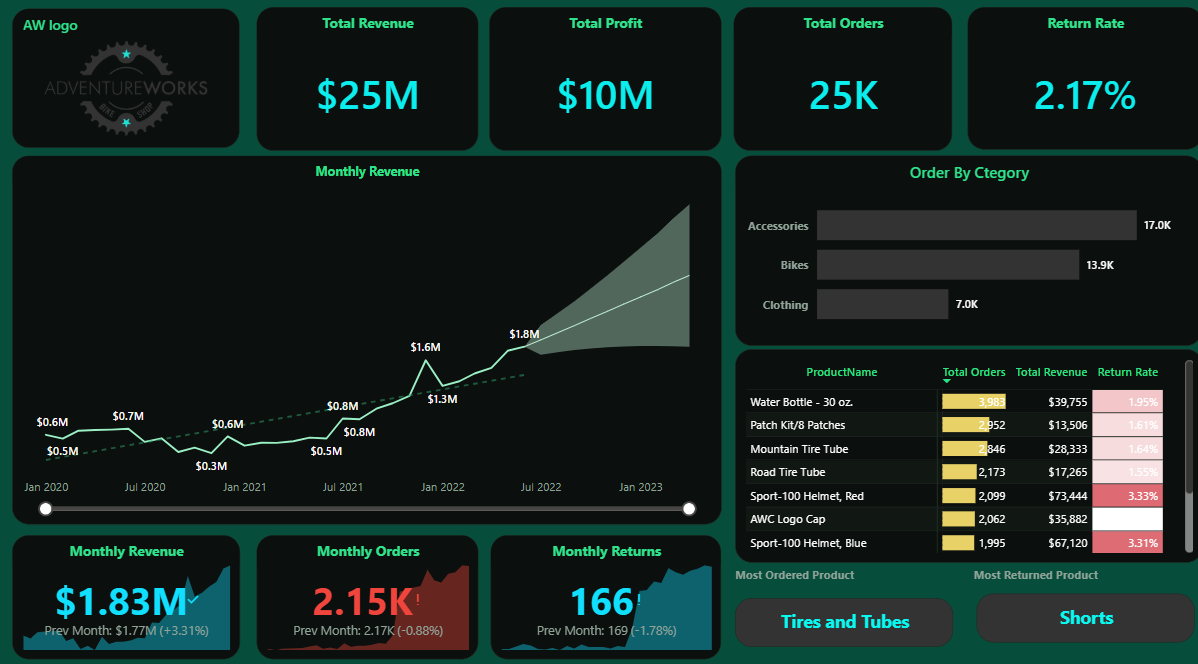

The page's visual inventory and layout, read from the dashboard file:
{"tool":"powerbi","page":{"name":"Exec Dashboard ","canvas":[1280,720],"ordinal":0},"visuals":[{"type":"image","title":"AW logo","box":[12.7,14.3,241,147.8],"z":0},{"type":"lineChart","title":"Monthly Revenue","fields":{"Category":["Calendar Lookup.Date Hierarchy.Start of Month"],"Y":["Measure Table.Total Revenue"]},"box":[12.7,170.2,752.4,391.3],"z":1000},{"type":"kpi","title":"Monthly Revenue","fields":{"Goal":["Measure Table.Previous Month Revenue"],"Indicator":["Measure Table.Total Revenue"],"TrendLine":["Calendar Lookup.Start of Month"]},"box":[12.7,572.6,241.8,132],"z":2000},{"type":"kpi","title":"Monthly Orders","fields":{"Goal":["Measure Table.Previous Month Orders"],"Indicator":["Measure Table.Total Orders"],"TrendLine":["Calendar Lookup.Start of Month"]},"box":[272,572.6,235.4,132],"z":3000},{"type":"kpi","title":"Monthly Returns","fields":{"Goal":["Measure Table.Previous Month Returns"],"Indicator":["Measure Table.Total Returns"],"TrendLine":["Calendar Lookup.Start of Month"]},"box":[520.1,572.6,245,132],"z":4000},{"type":"barChart","title":"Order By Ctegory","fields":{"Category":["Product Categories Lookup.CategoryName"],"Y":["Measure Table.Total Orders"]},"box":[779.4,170.2,496.3,202],"z":5000},{"type":"pivotTable","fields":{"Rows":["Product Lookup.ProductName"],"Values":["Measure Table.Total Orders","Measure Table.Total Revenue","Measure Table.Return Rate"]},"box":[779.4,375.4,496.7,226.5],"z":6000},{"type":"card","fields":{"Values":["Min(Product Subcategories Lookup.SubcategoryName)"]},"box":[779.4,639.4,231.4,51.8],"z":7000},{"type":"card","fields":{"Values":["Min(Product Subcategories Lookup.SubcategoryName)"]},"box":[1035.5,634.7,231.4,51.8],"z":8000},{"type":"textbox","box":[775,601.9,210.3,38.8],"z":9000},{"type":"textbox","box":[1027.4,601.9,202.2,34],"z":10000},{"type":"cardVisual","title":"Return Rate","fields":{"Data":["Measure Table.Return Rate"]},"box":[1025.9,13.3,249.7,151.1],"z":15000},{"type":"cardVisual","title":"Total Revenue","fields":{"Data":["Measure Table.Total Revenue"]},"box":[272,12.7,235.4,152.7],"z":16000},{"type":"cardVisual","title":"Total Profit","fields":{"Data":["Measure Table.Total Profit"]},"box":[518.5,12.7,246.5,152.7],"z":17000},{"type":"cardVisual","title":"Total Orders","fields":{"Data":["Measure Table.Total Orders"]},"box":[777.8,12.7,232.2,152.7],"z":18000}]}

Visuals, with their boxes in screenshot pixels (x1, y1, x2, y2), scaled from the page's 1280x720 canvas onto the 1198x664 screenshot:
"AW logo" image: <region>12, 13, 237, 149</region>
"Monthly Revenue" lineChart: <region>12, 157, 716, 518</region>
"Monthly Revenue" kpi: <region>12, 528, 238, 650</region>
"Monthly Orders" kpi: <region>255, 528, 475, 650</region>
"Monthly Returns" kpi: <region>487, 528, 716, 650</region>
"Order By Ctegory" barChart: <region>729, 157, 1194, 343</region>
pivotTable - Product Lookup.ProductName x Measure Table.Total Orders: <region>729, 346, 1194, 555</region>
card - Min(Product Subcategories Lookup.SubcategoryName): <region>729, 590, 946, 637</region>
card - Min(Product Subcategories Lookup.SubcategoryName): <region>969, 585, 1186, 633</region>
textbox: <region>725, 555, 922, 591</region>
textbox: <region>962, 555, 1151, 586</region>
"Return Rate" cardVisual: <region>960, 12, 1194, 152</region>
"Total Revenue" cardVisual: <region>255, 12, 475, 153</region>
"Total Profit" cardVisual: <region>485, 12, 716, 153</region>
"Total Orders" cardVisual: <region>728, 12, 945, 153</region>
